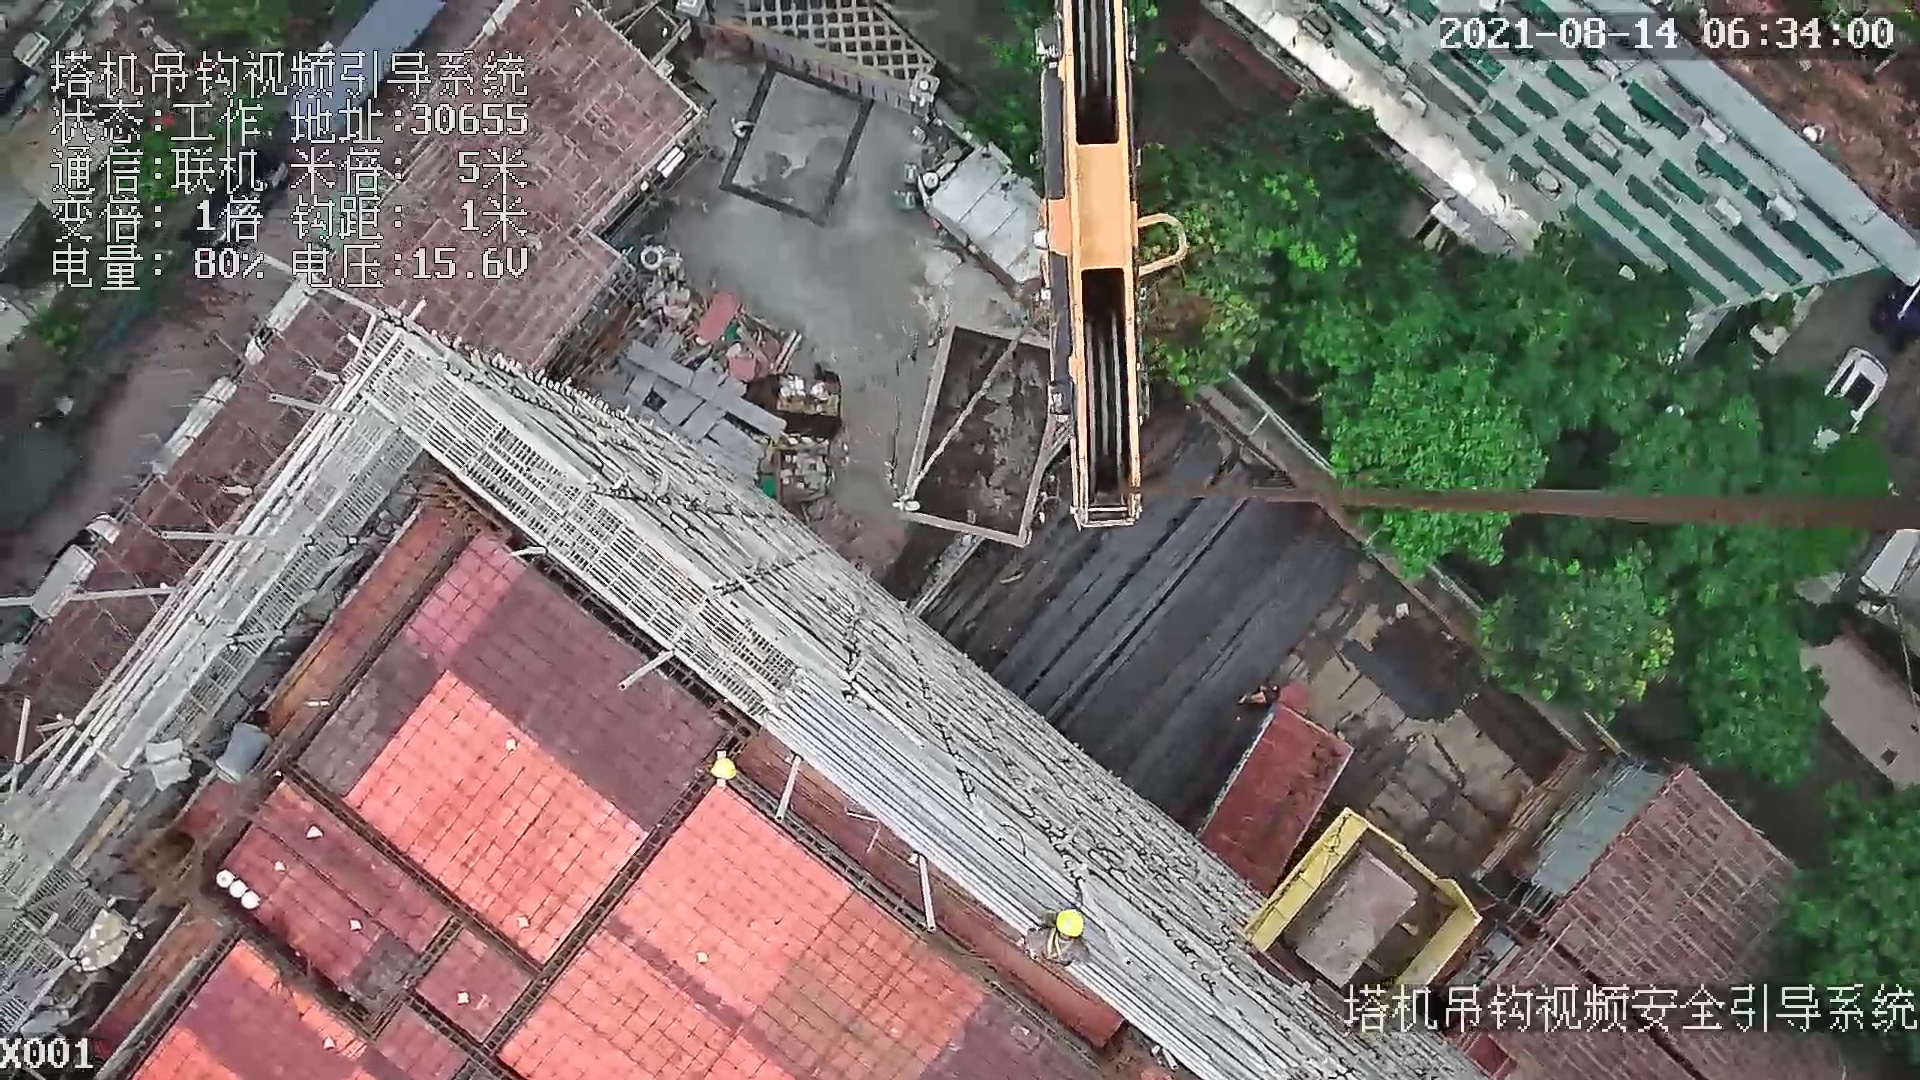helmet: (1057, 906, 1088, 936), (709, 754, 738, 781)
hook: (1015, 5, 1188, 533)
hopper: (909, 310, 1058, 558)
person: (1018, 895, 1100, 973)
